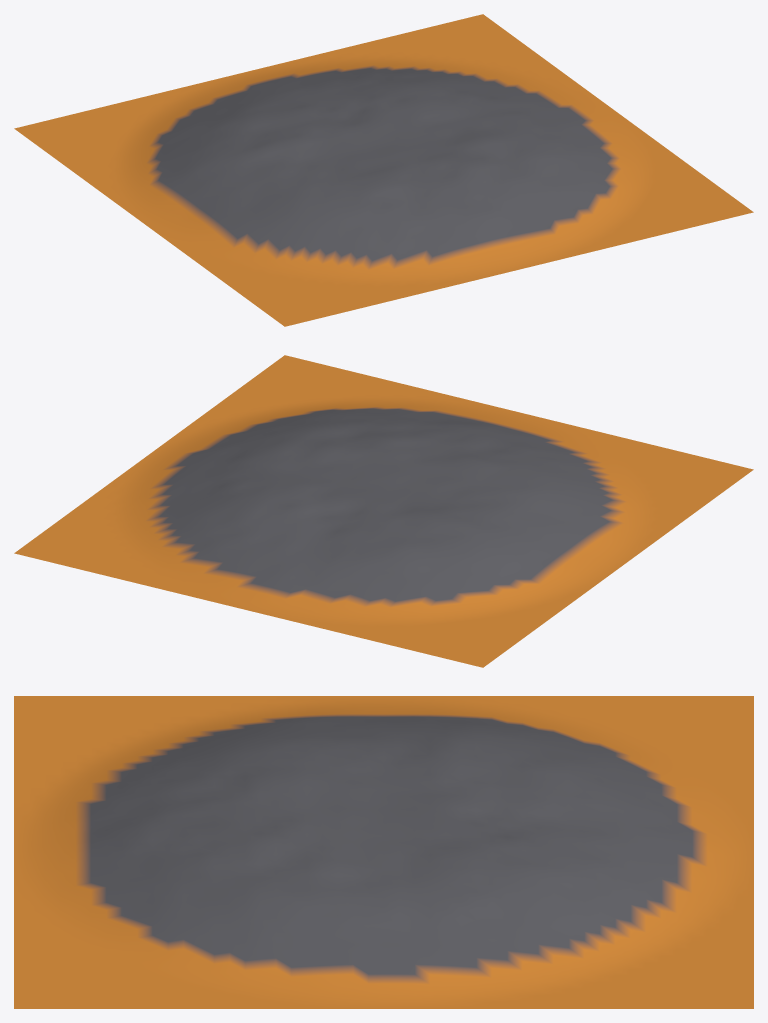
File: volcanic_arena.glb
3 views of the same model, one above another, from view 1: azimuth 30°, elevation 25°; view 2: azimuth 150°, elevation 25°; view 3: azimuth 270°, elevation 25° (orthographic). The views are drawn at different scales.
Visible parts, largest first — view 1: volcanic_arena; view 2: volcanic_arena; view 3: volcanic_arena.
Part boxes in pixels (bbox=[...]): volcanic_arena: bbox=[14, 14, 753, 326]; volcanic_arena: bbox=[14, 355, 753, 667]; volcanic_arena: bbox=[14, 696, 753, 1008].
Bounding box in the file's own units: 60 × 3.56 × 60.
